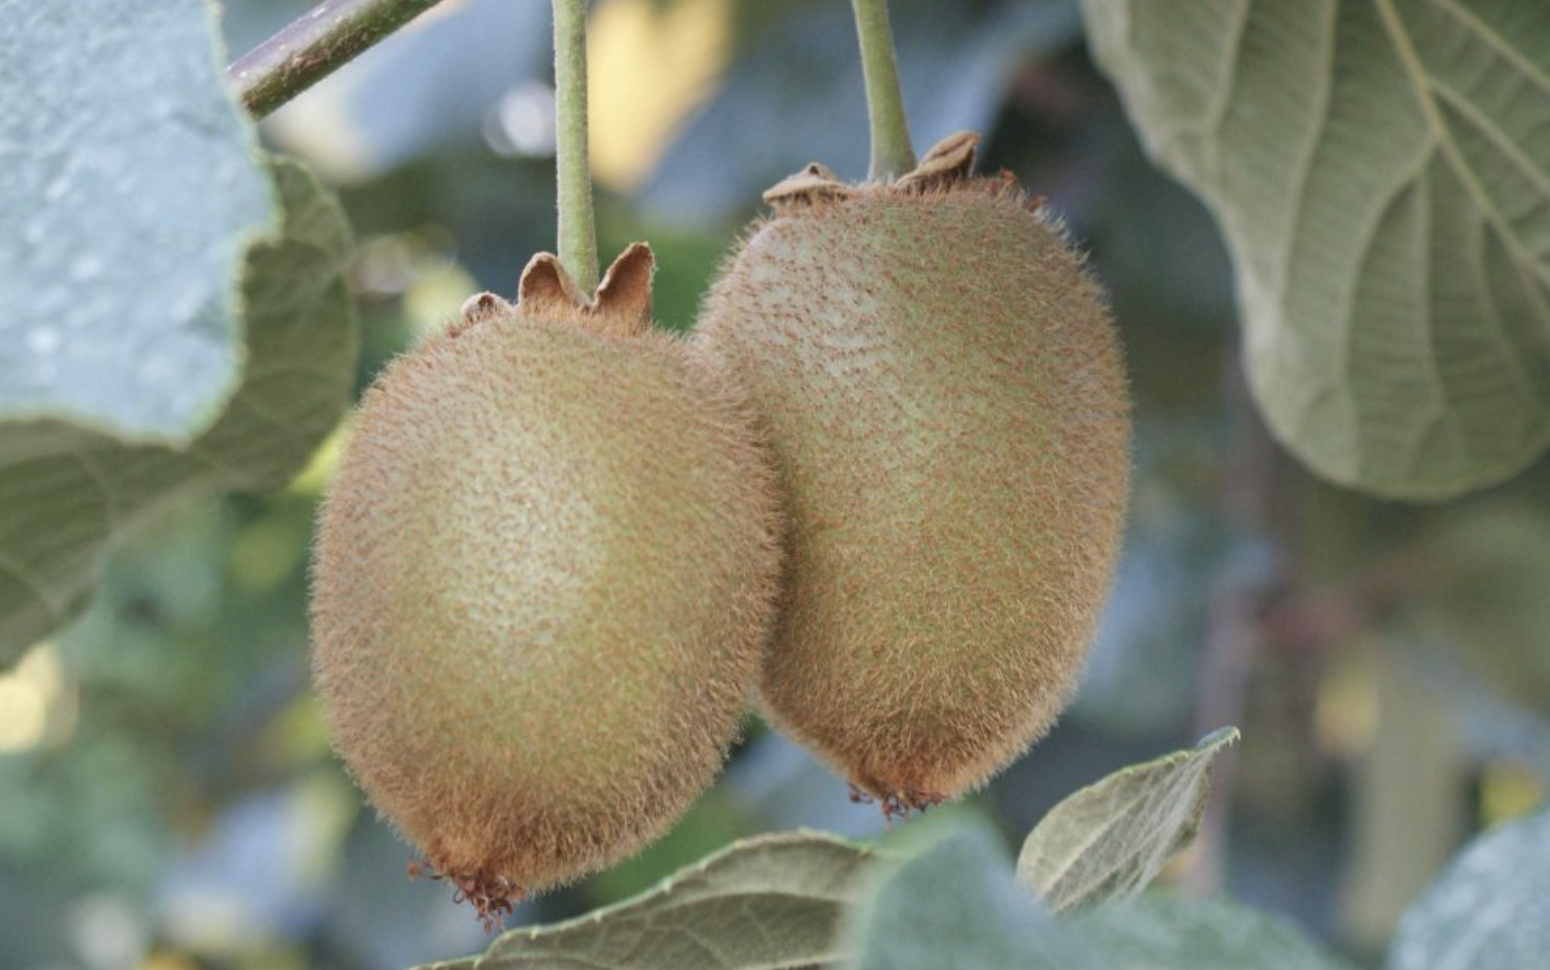kiwi: (659, 153, 1177, 808), (313, 229, 788, 919)
